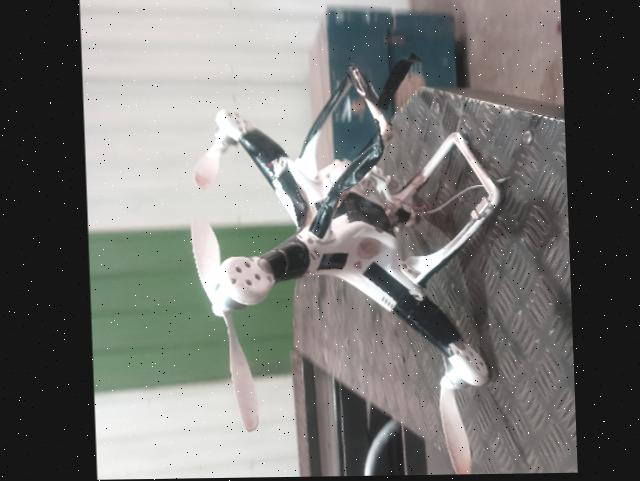drone: (178, 79, 543, 479)
